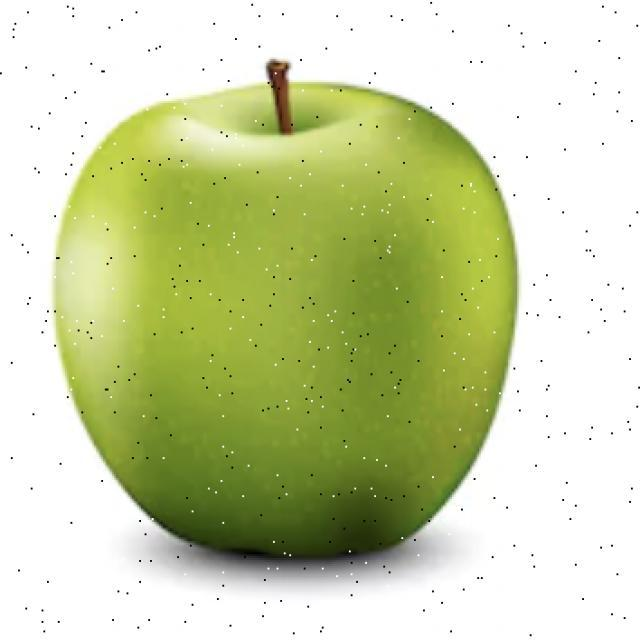Fresh Apple: (70, 92, 493, 570)
